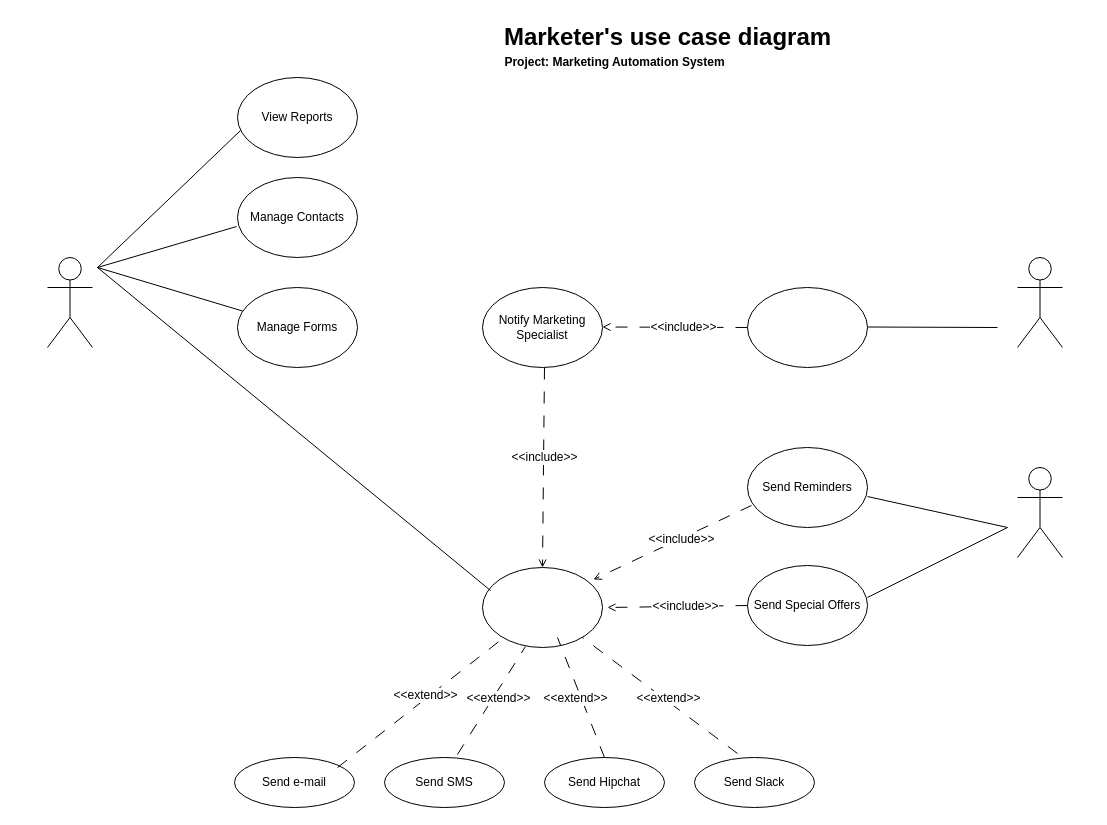
Image size: 1107x825. Some labels were removed from this diagram. Here are the shapes that lost their labels. From the top down, the centre of each, then its label:
At point 69,302: "Marketing specialist".
At point 1039,302: "Customer".
At point 807,327: "Submit Form".
At point 1039,512: "<<system>> Notification Engine".
At point 542,607: "Send Communication".
